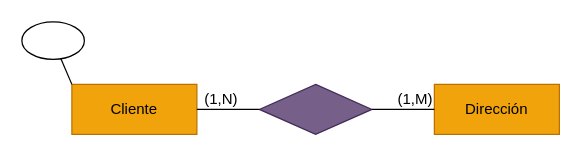
Image size: 581x156. Some labels were removed from this diagram. Here are the shapes that lost their labels. From the top down, the box of each, then its label:
(21, 21, 84, 59): Nºcliente
(258, 83, 372, 134): tiene
